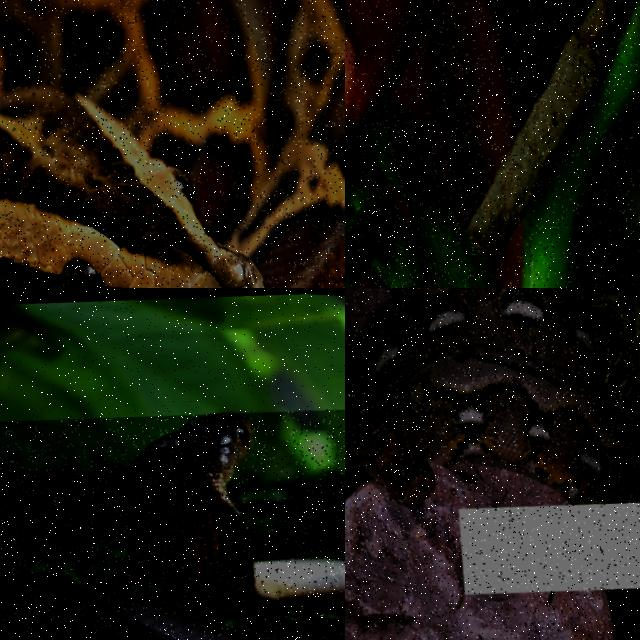Malayopython reticulatus: (345, 288, 639, 508)
Naja kaouthia: (0, 413, 344, 639)
Python bivittatus: (0, 0, 344, 287)
Trimeresurus: (523, 0, 639, 287)
